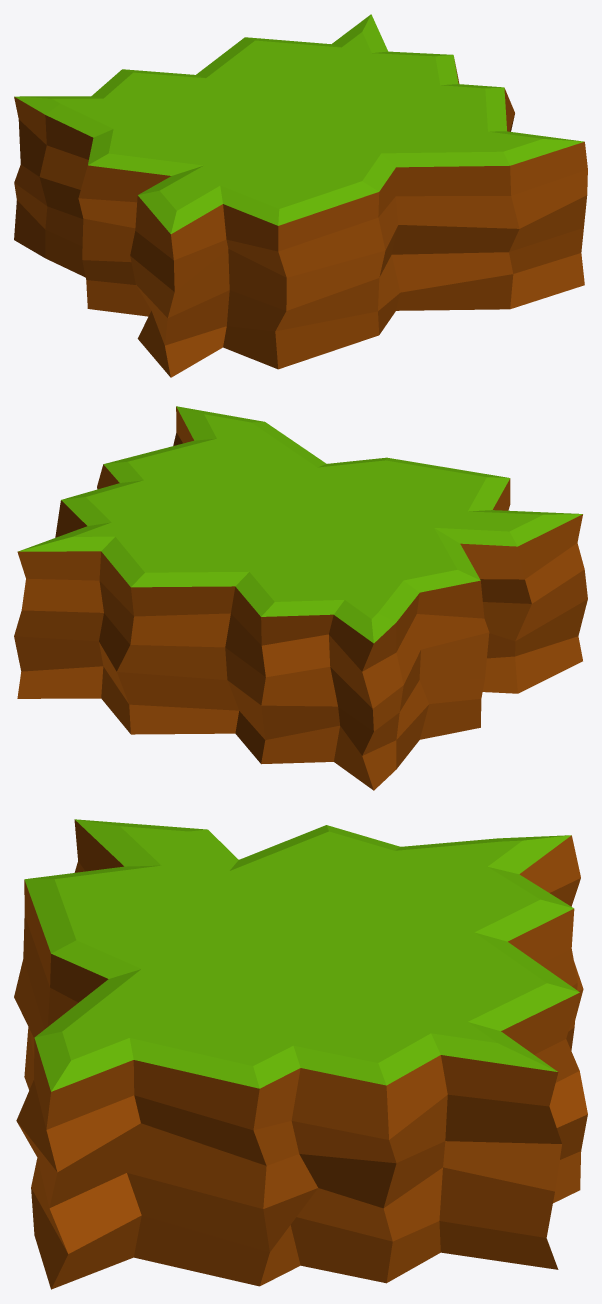
Rendered from land_square_02.fbx.
The picture shows the model from 3 angles, top to bottom: view 1: azimuth 30°, elevation 25°; view 2: azimuth 150°, elevation 25°; view 3: azimuth 270°, elevation 25°; orthographic projection. The views are drawn at different scales.
Visible parts, largest first — view 1: Plane.005; view 2: Plane.005; view 3: Plane.005.
Part boxes in pixels (bbox=[...]): Plane.005: bbox=[14, 14, 587, 377]; Plane.005: bbox=[14, 406, 587, 790]; Plane.005: bbox=[14, 819, 587, 1289].
Size of the model in its own units: 1360 by 469 by 1185.
1 material, 1 textured.
